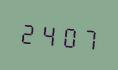four: (38, 18, 57, 49)
seven: (78, 21, 97, 53)
two: (18, 16, 37, 48)
zero: (58, 20, 77, 51)
